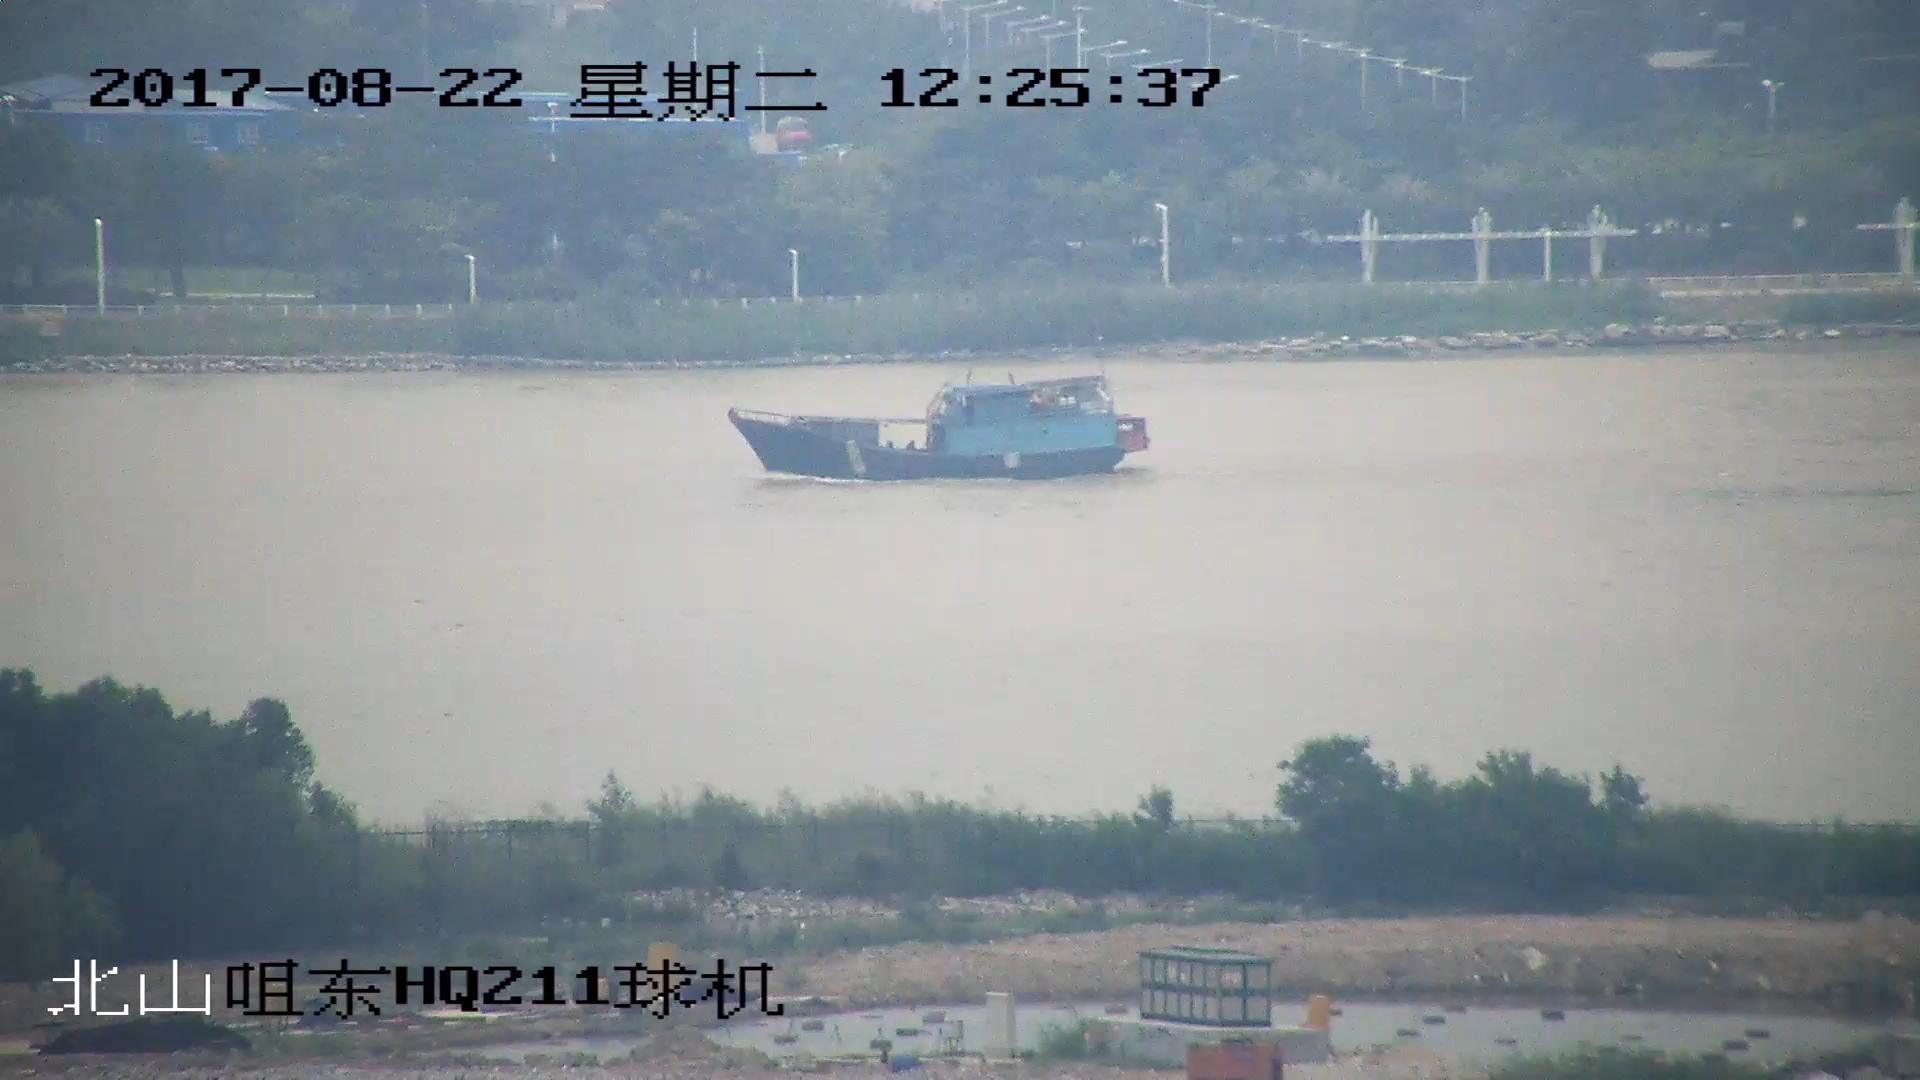fishing boat: (735, 374, 1144, 477)
